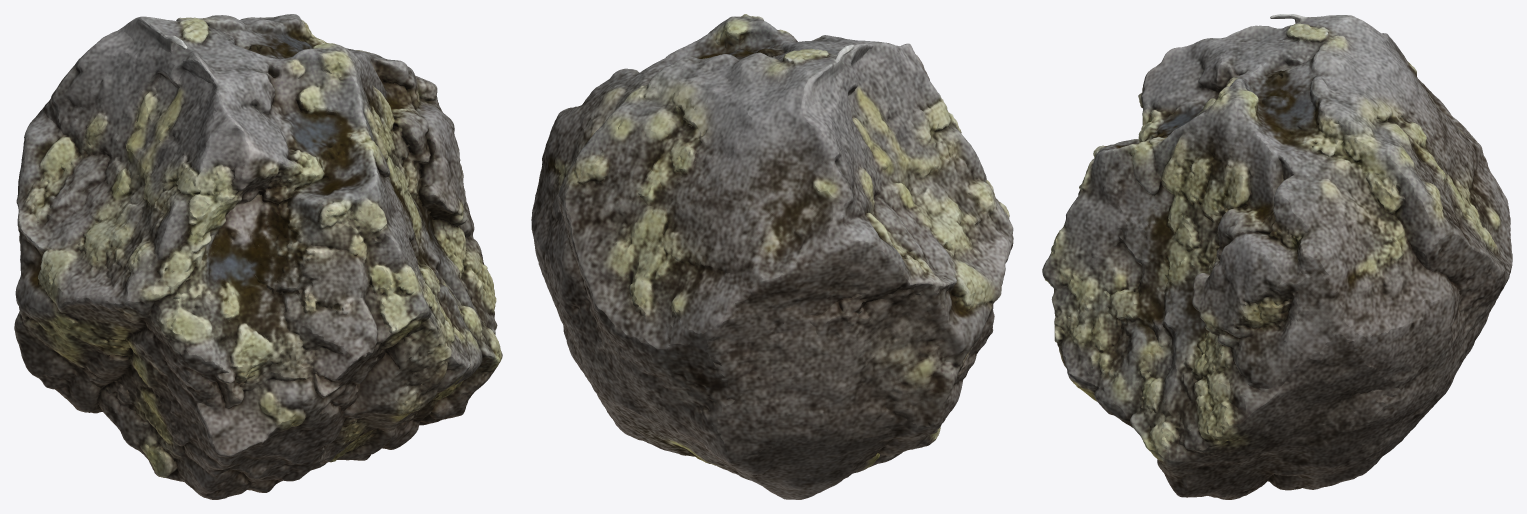
The model's file is task-4897437.glb.
3 renders of one model, left to right at view 1: azimuth 30°, elevation 25°; view 2: azimuth 150°, elevation 25°; view 3: azimuth 270°, elevation 25°, orthographic. The views are drawn at different scales.
Parts seen in each view (by area): view 1: world; view 2: world; view 3: world.
Part boxes in pixels (box(x1,y1,x2,y2)): world: box(14, 14, 502, 499); world: box(531, 14, 1013, 499); world: box(1042, 14, 1512, 499).
Bounding box in the file's own units: 0.35 × 0.3421 × 0.3479.
Materials: 1 (1 with a texture image).
